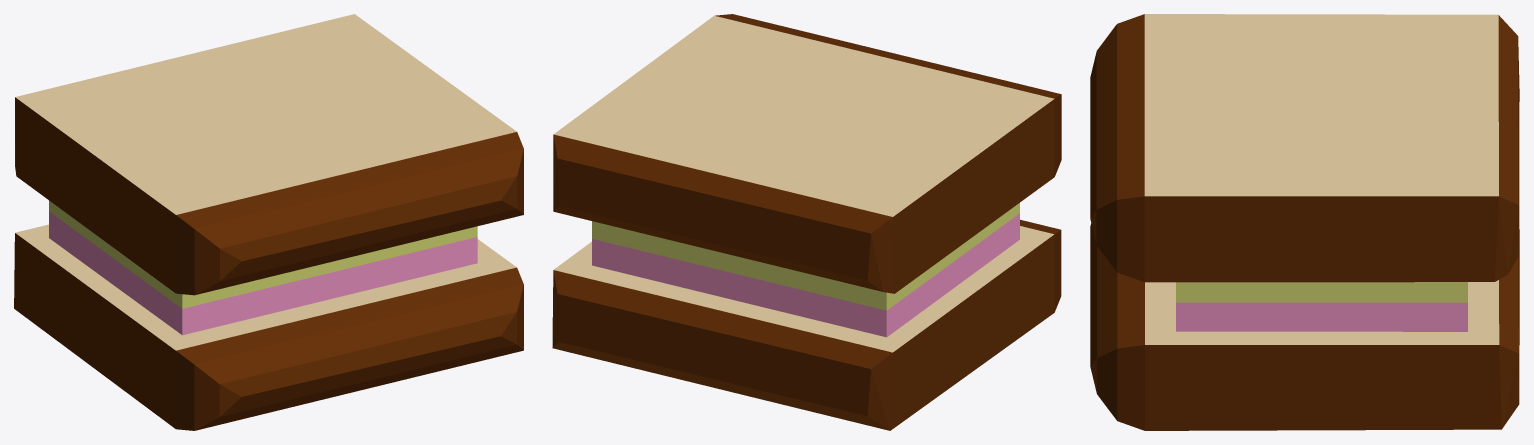
Rendered from sandwich.fbx.
The picture shows the model from 3 angles, left to right: view 1: azimuth 30°, elevation 25°; view 2: azimuth 150°, elevation 25°; view 3: azimuth 270°, elevation 25°; orthographic projection. The views are drawn at different scales.
Parts seen in each view (by area): view 1: Cube, Cube.001, Cube.002; view 2: Cube, Cube.001, Cube.002; view 3: Cube, Cube.001, Cube.002.
Boxes of the visible parts, bbox=[...] form: Cube: bbox=[15, 14, 523, 295]; Cube.001: bbox=[14, 224, 523, 430]; Cube.002: bbox=[49, 200, 477, 335]; Cube: bbox=[553, 14, 1061, 293]; Cube.001: bbox=[552, 219, 1061, 430]; Cube.002: bbox=[592, 203, 1019, 337]; Cube: bbox=[1090, 14, 1519, 282]; Cube.001: bbox=[1090, 223, 1519, 430]; Cube.002: bbox=[1176, 282, 1467, 331].
Size of the model in its own units: 103 by 61.83 by 103.
